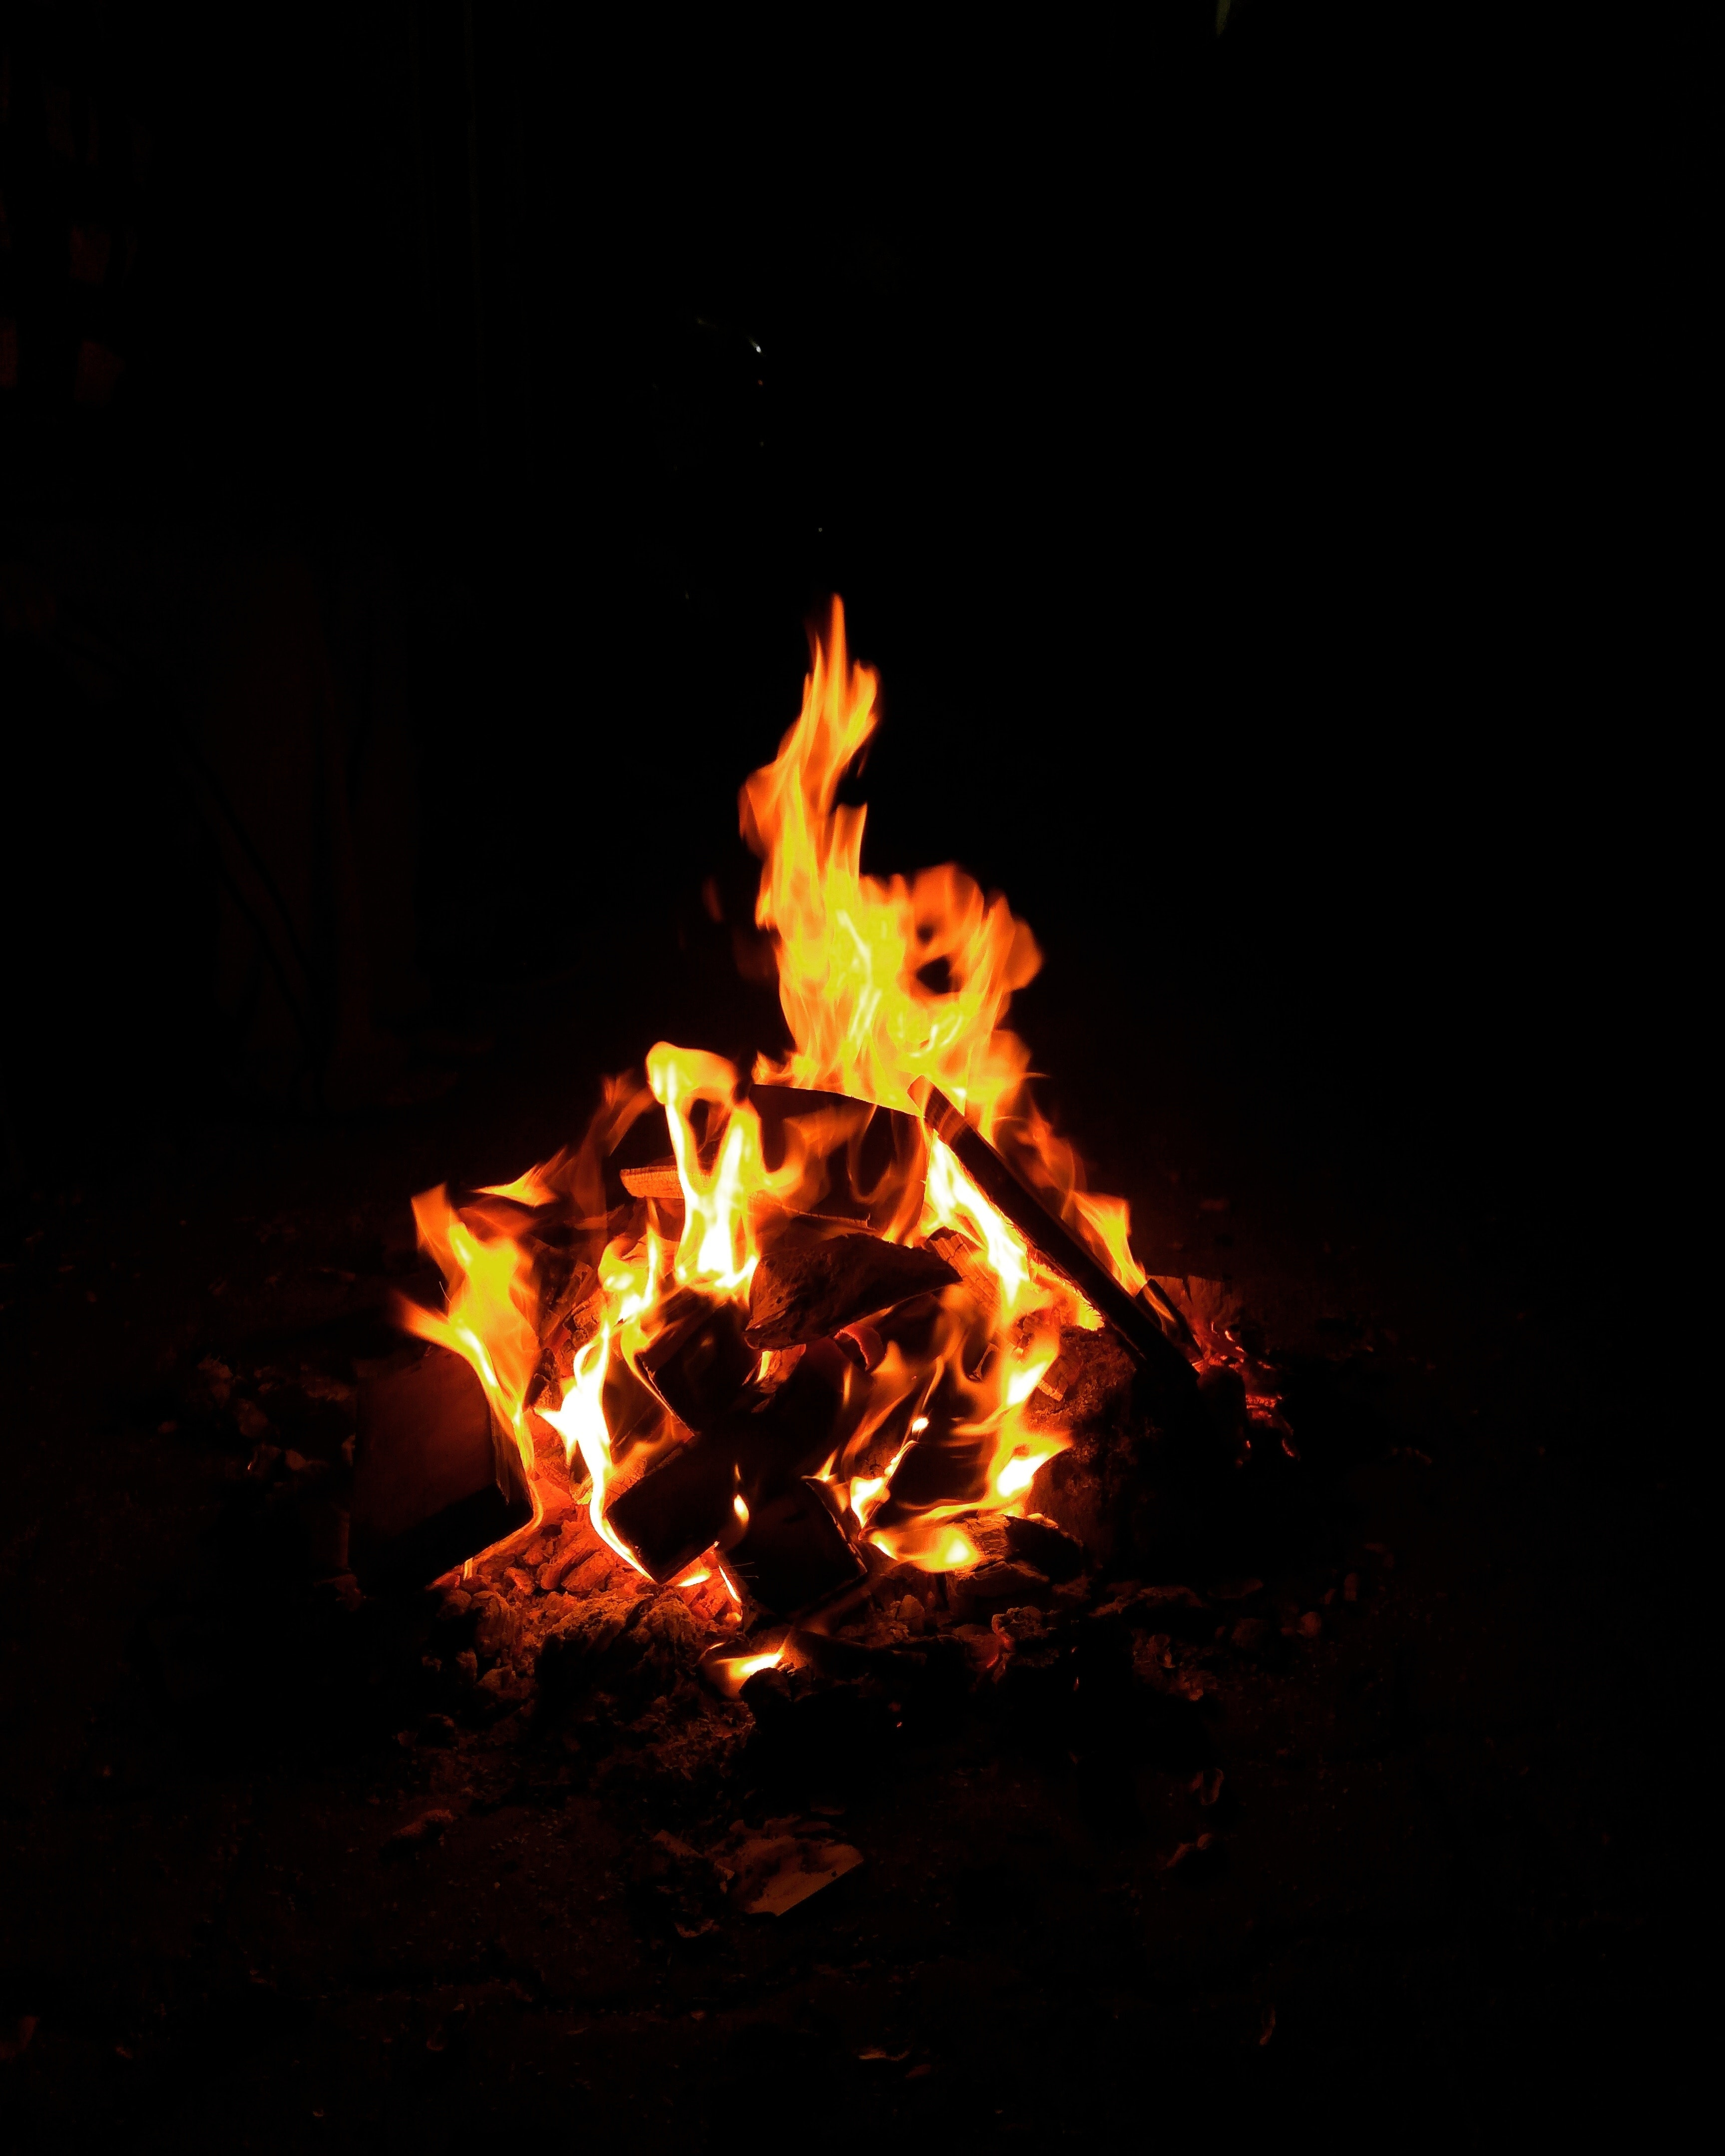fire: (415, 526, 1199, 1721)
